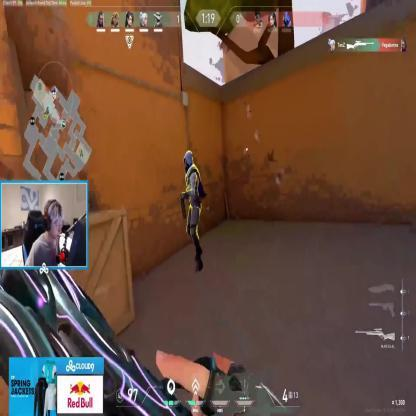enemy: (180, 149, 208, 273)
enemy_head: (183, 150, 194, 174)
